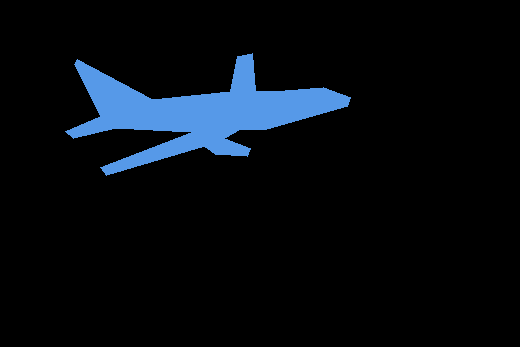Airplane: (65, 53, 350, 175)
